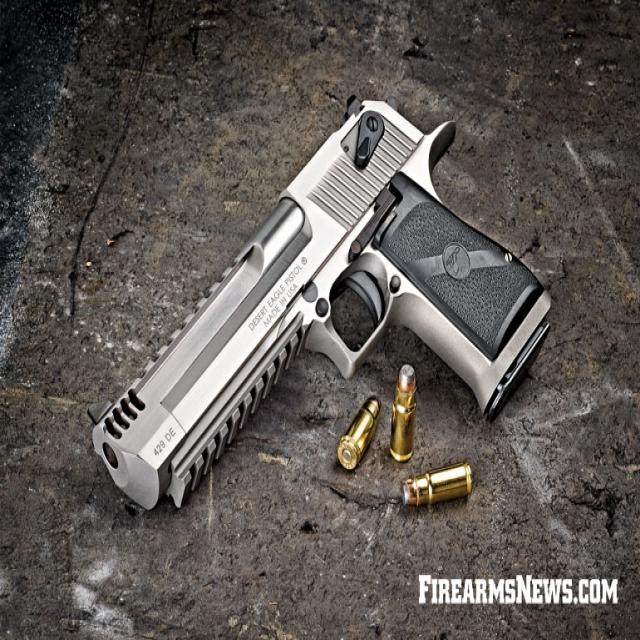handgun: (89, 84, 558, 552)
